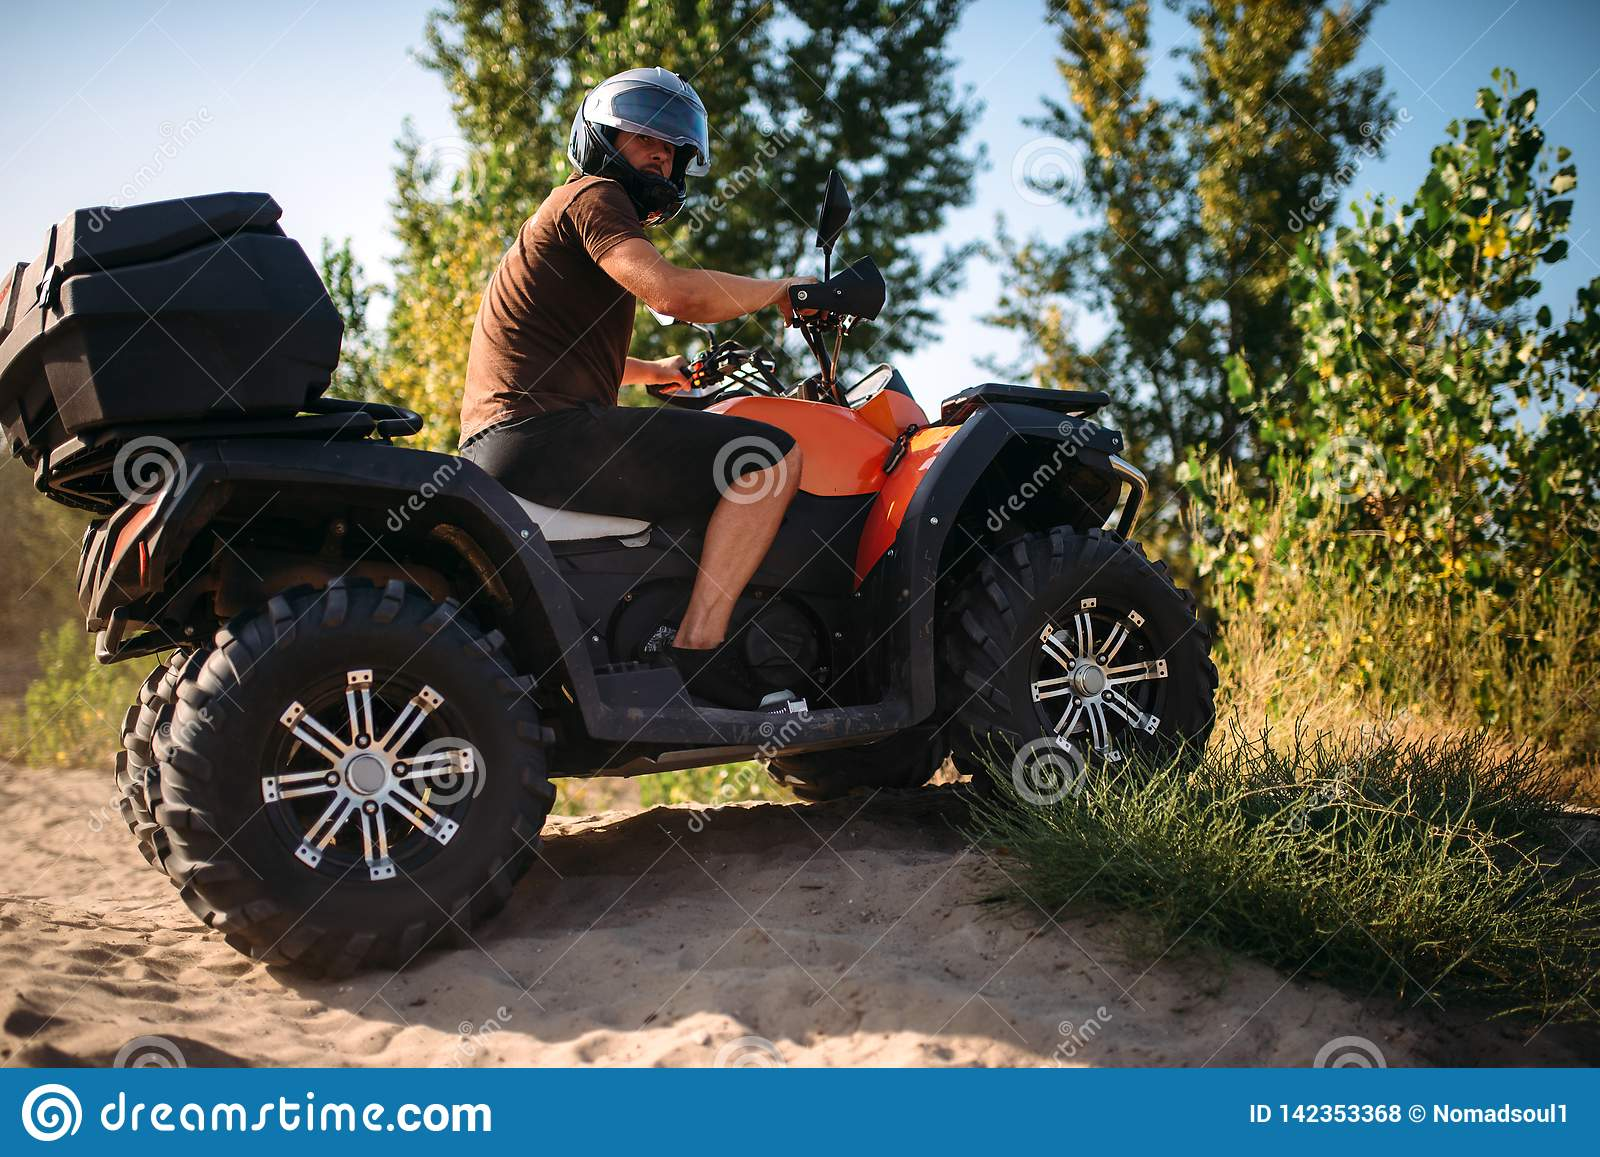helmet: (571, 62, 714, 227)
